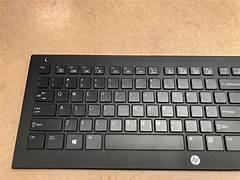keyboard: (11, 53, 239, 171)
